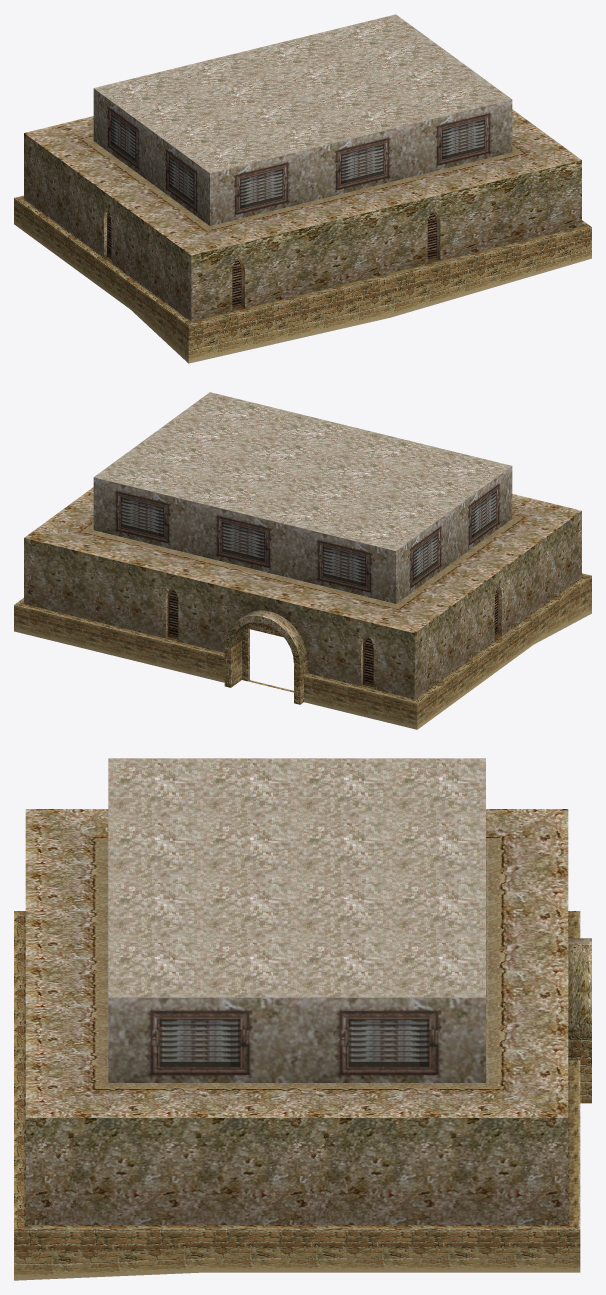
Rendered from Mission8_VillageRadioShackExt.glb.
3 renders of one model, top to bottom at view 1: azimuth 30°, elevation 25°; view 2: azimuth 150°, elevation 25°; view 3: azimuth 270°, elevation 25°, orthographic. The views are drawn at different scales.
Visible parts, largest first — view 1: MISSION8_VILLAGERADIOSHACKEXT; view 2: MISSION8_VILLAGERADIOSHACKEXT; view 3: MISSION8_VILLAGERADIOSHACKEXT.
Part boxes in pixels (x1=…): MISSION8_VILLAGERADIOSHACKEXT: x1=14, y1=14, x2=591, y2=363; MISSION8_VILLAGERADIOSHACKEXT: x1=14, y1=392, x2=591, y2=729; MISSION8_VILLAGERADIOSHACKEXT: x1=14, y1=758, x2=591, y2=1280.
Bounding box in the file's own units: 16 × 6.06 × 12.25.
Materials: 6 (6 with a texture image).
